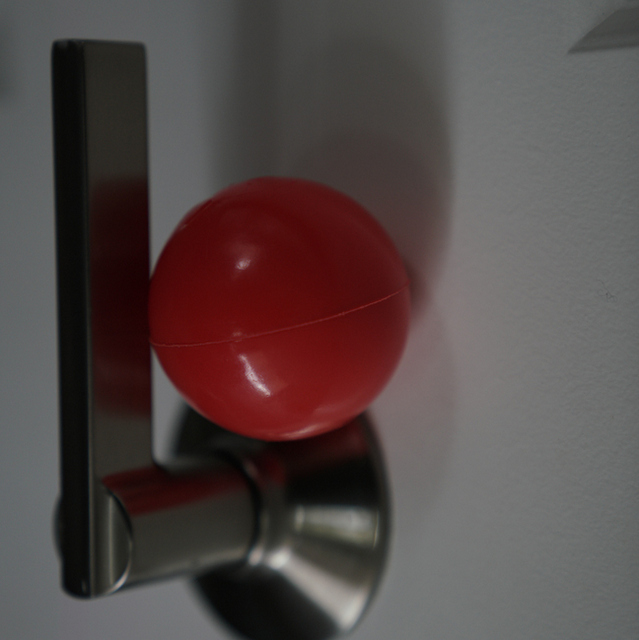Ball: (149, 180, 418, 444)
